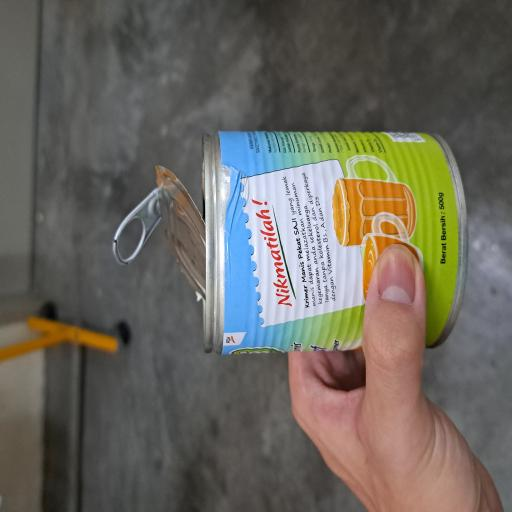can: (117, 266, 288, 512)
pop tab: (185, 144, 245, 218)
